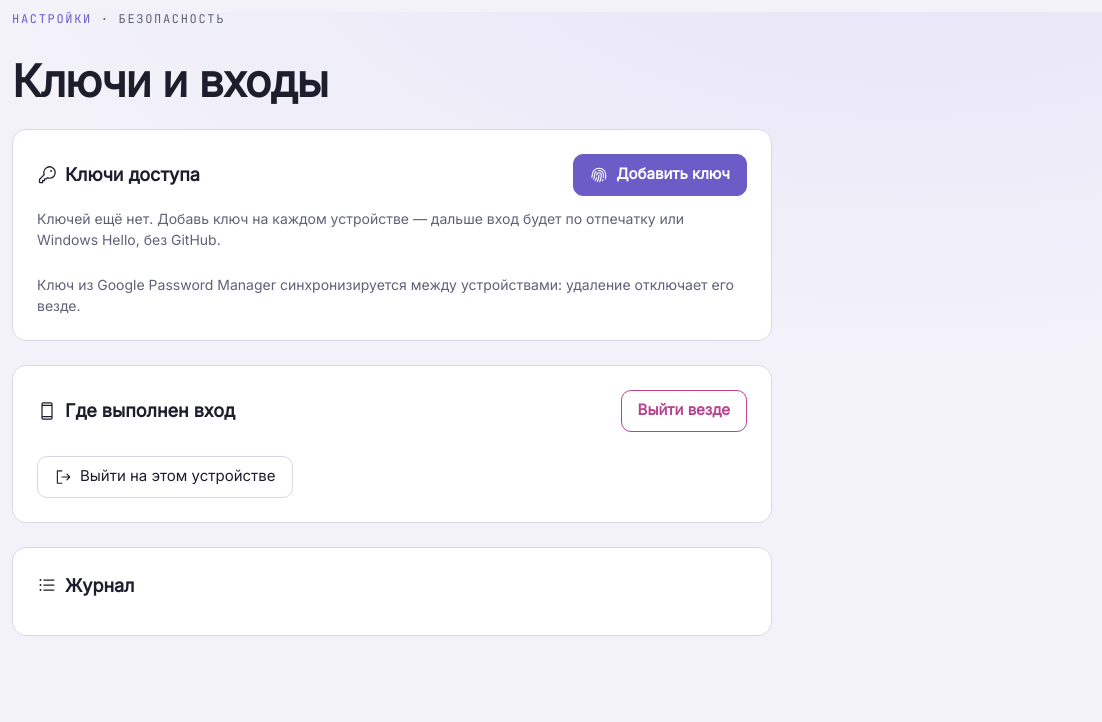
Test case: Security: выход идёт через страж › «Выйти везде»: сервер не ответил — устройство не стирается, выхода нет, ошибка на экране
What coordinates should you click on to do the following:
click the button "Выйти везде"
I would click on:
 (684, 411)
Its box is top-left (621, 390), bottom-right (747, 432).
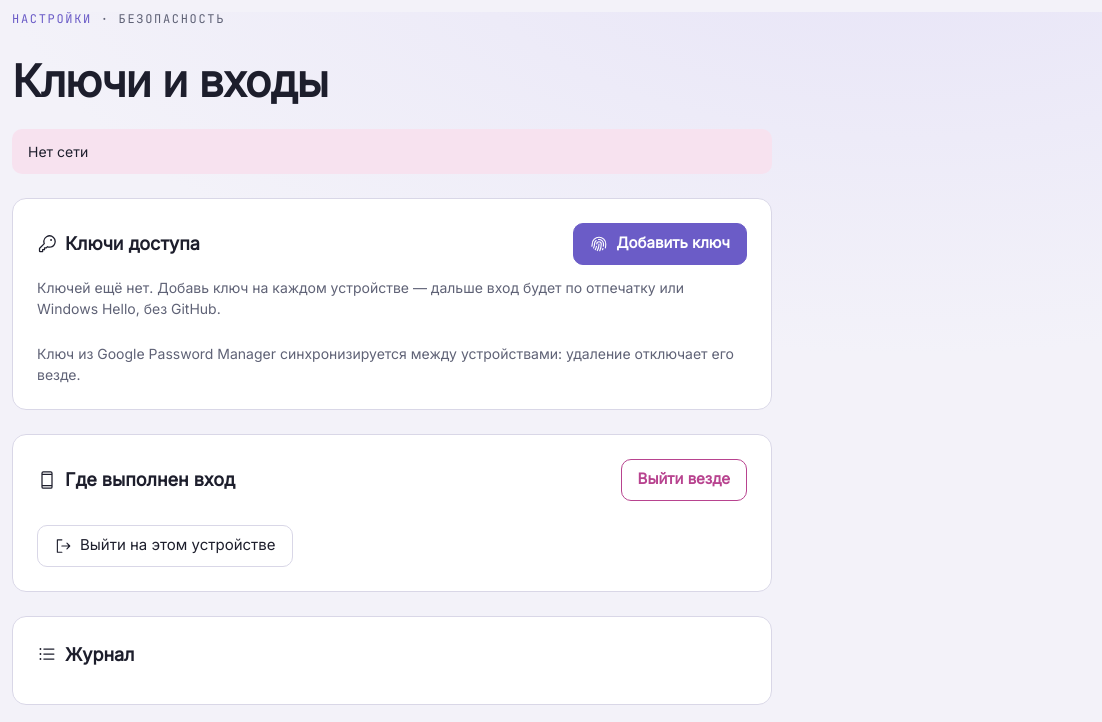
Expected: the message "Нет сети" is shown, top-left (12, 129), bottom-right (772, 174)
